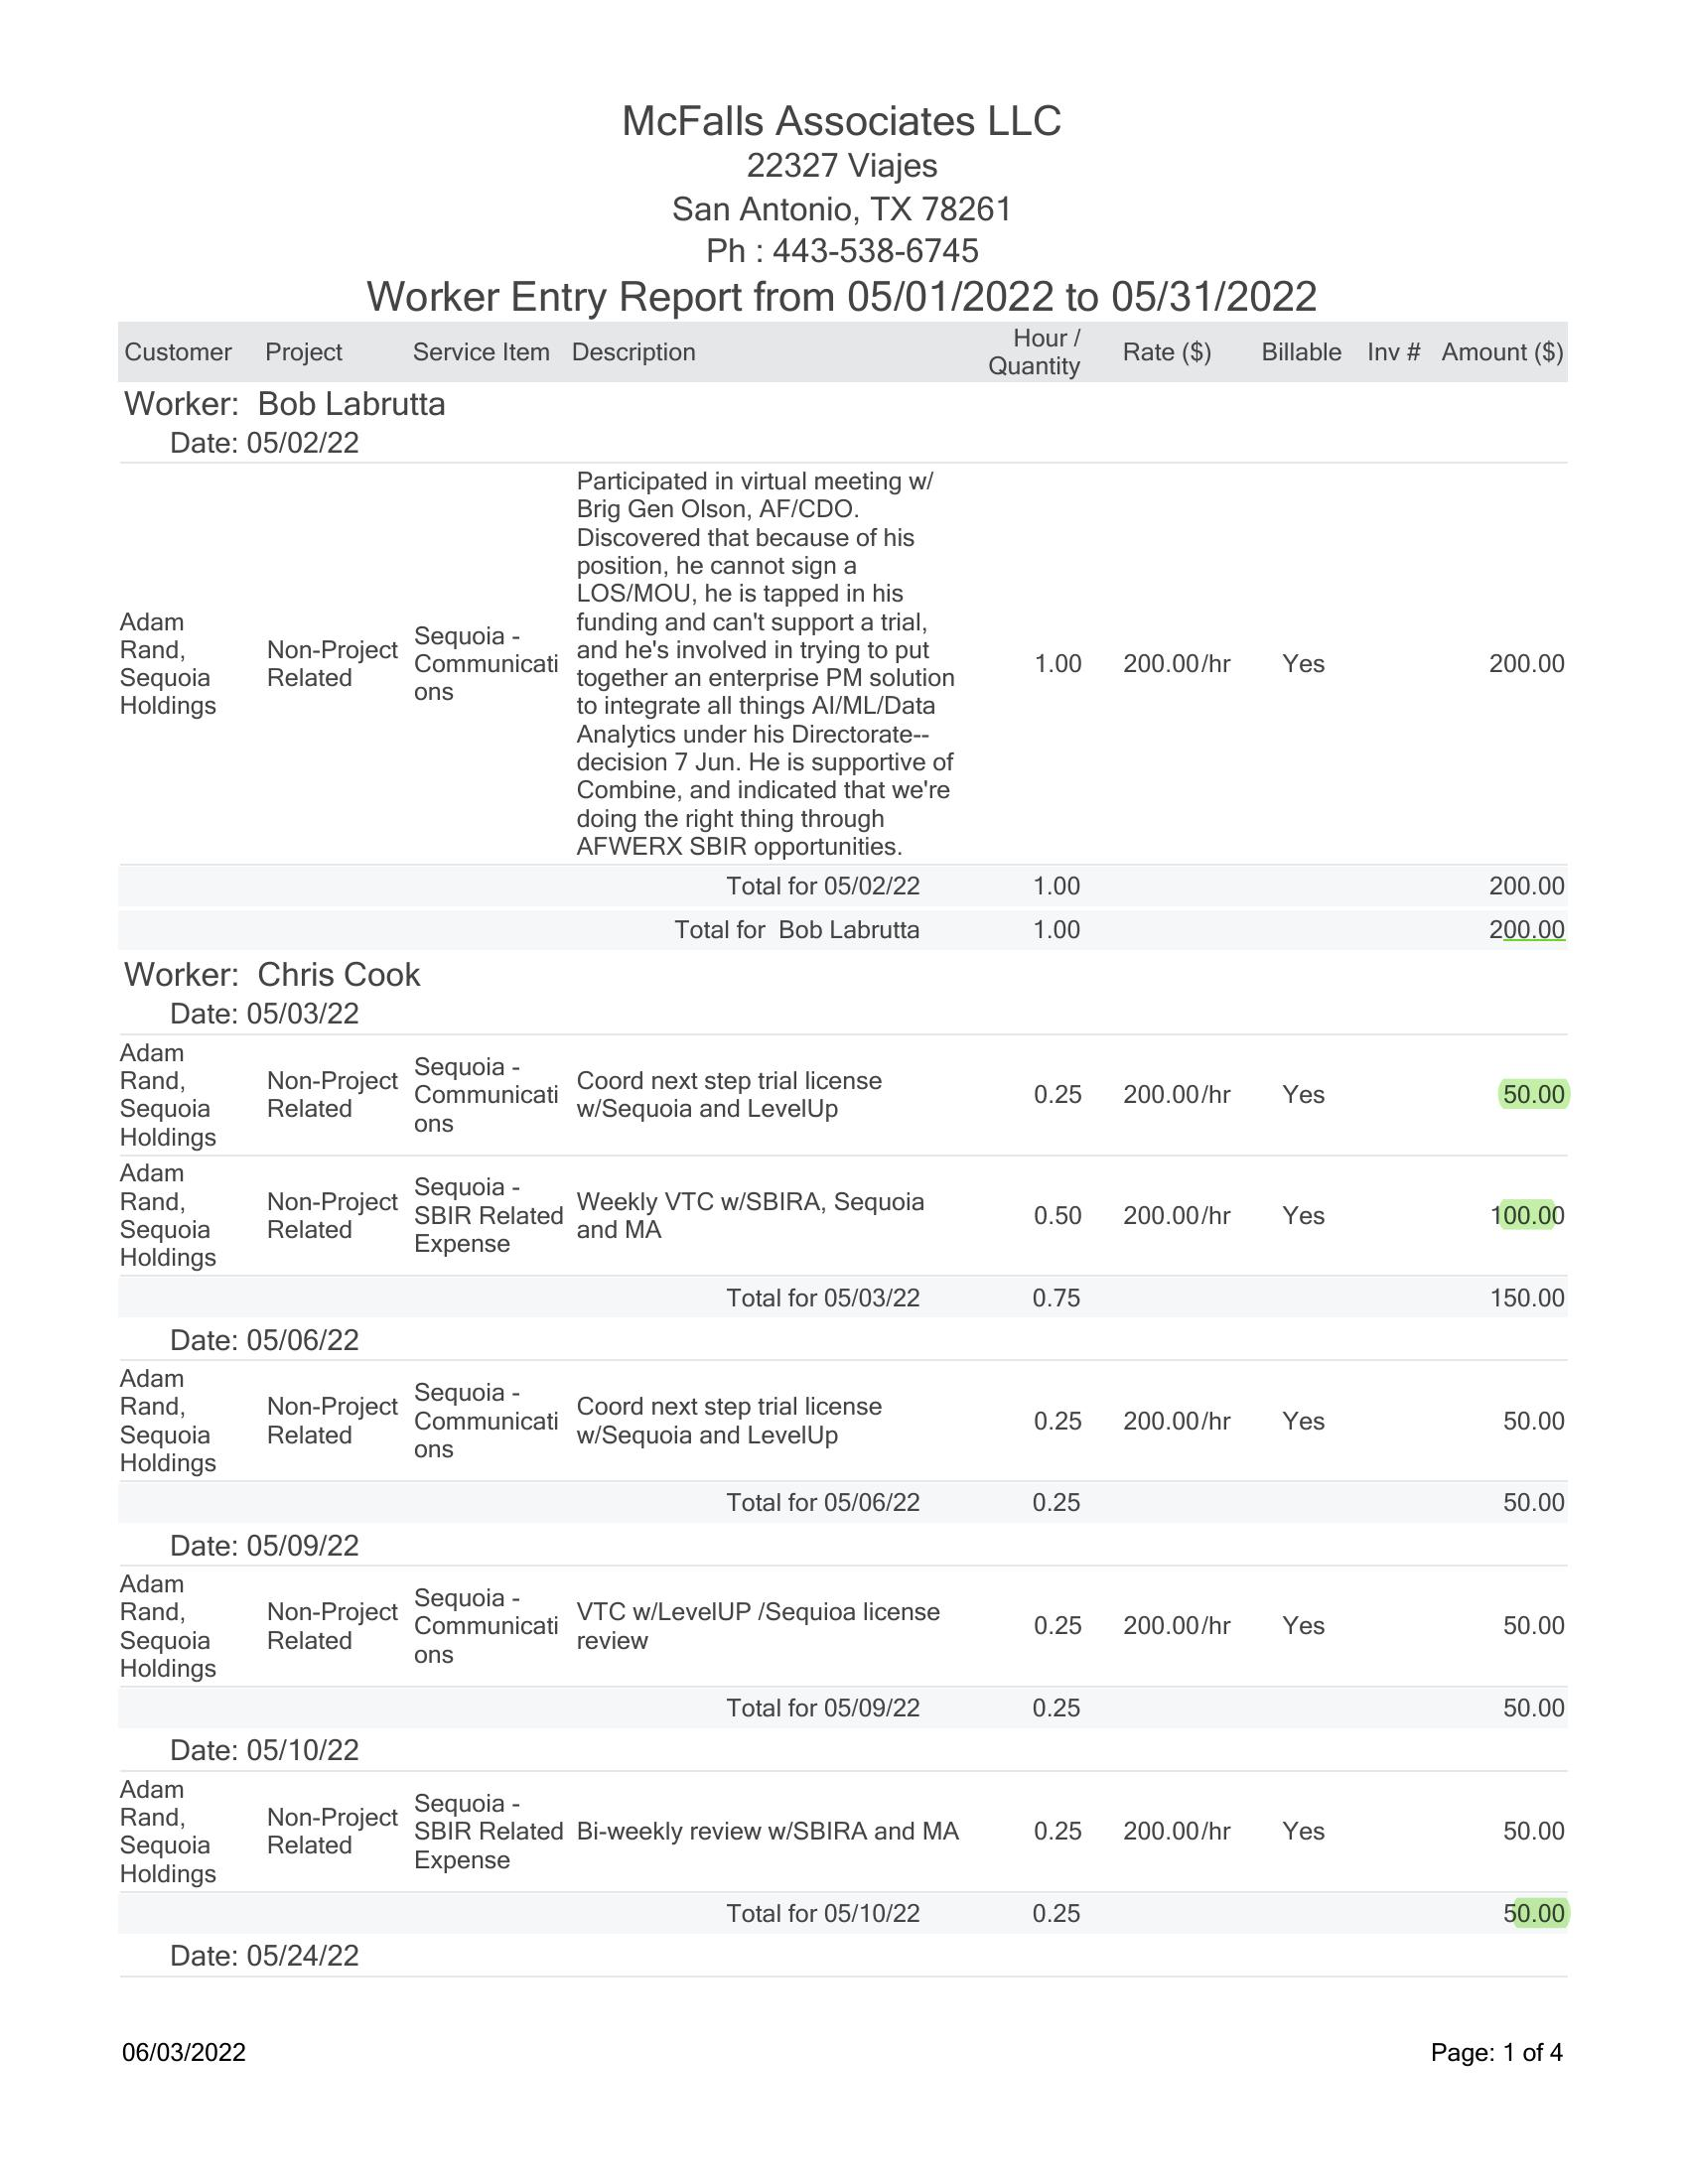table: (113, 317, 1603, 961), (108, 1035, 1606, 1322), (106, 1567, 1605, 1744), (105, 1360, 1610, 1526), (113, 1774, 1617, 1929)
